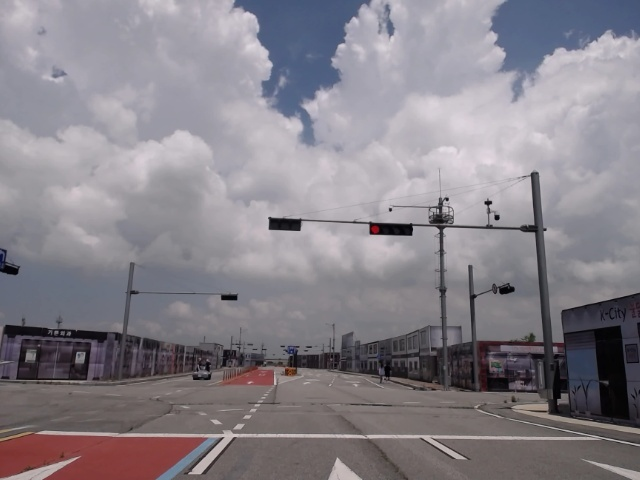red_4: (369, 223, 412, 235)
